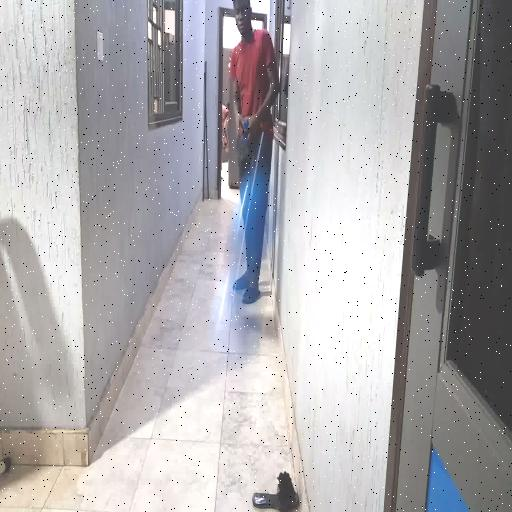plastic-ball: (208, 166, 273, 371)
